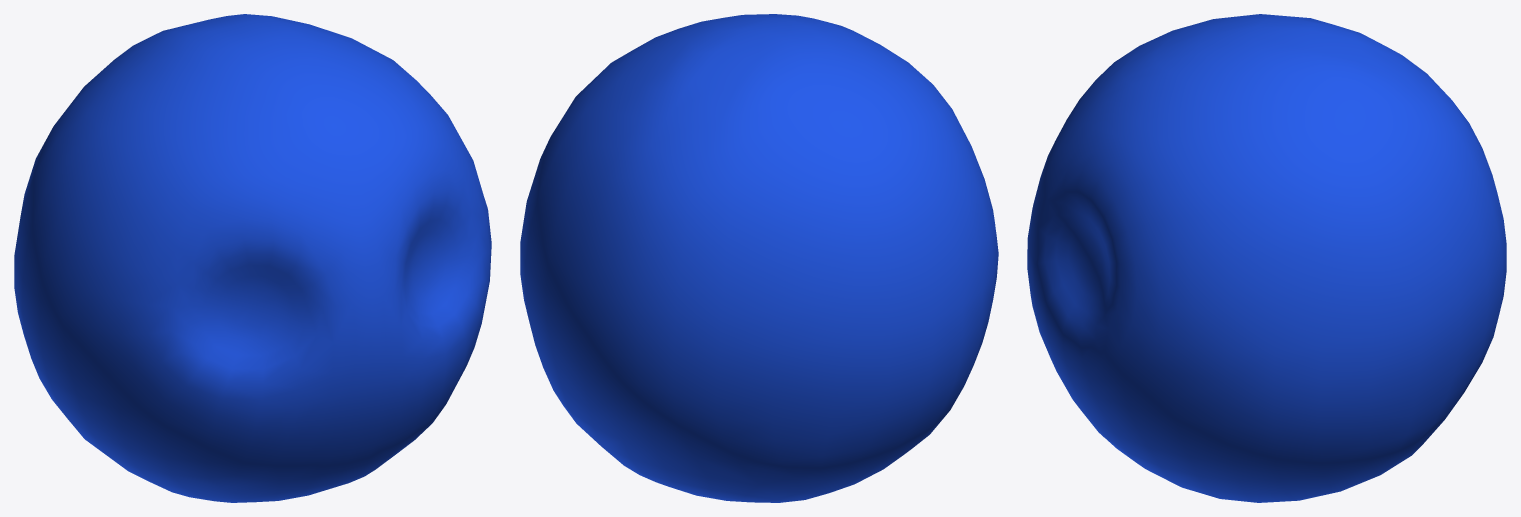
File: Asteroid.fbx
3 renders of one model, left to right at view 1: azimuth 30°, elevation 25°; view 2: azimuth 150°, elevation 25°; view 3: azimuth 270°, elevation 25°, orthographic.
Parts seen in each view (by area): view 1: Head; view 2: Head; view 3: Head.
Boxes of the visible parts, x1,y1,x2,y2 form: Head: (14,14,491,502); Head: (520,14,998,502); Head: (1027,14,1506,502).
Size of the model in its own units: 156 by 157 by 155.
